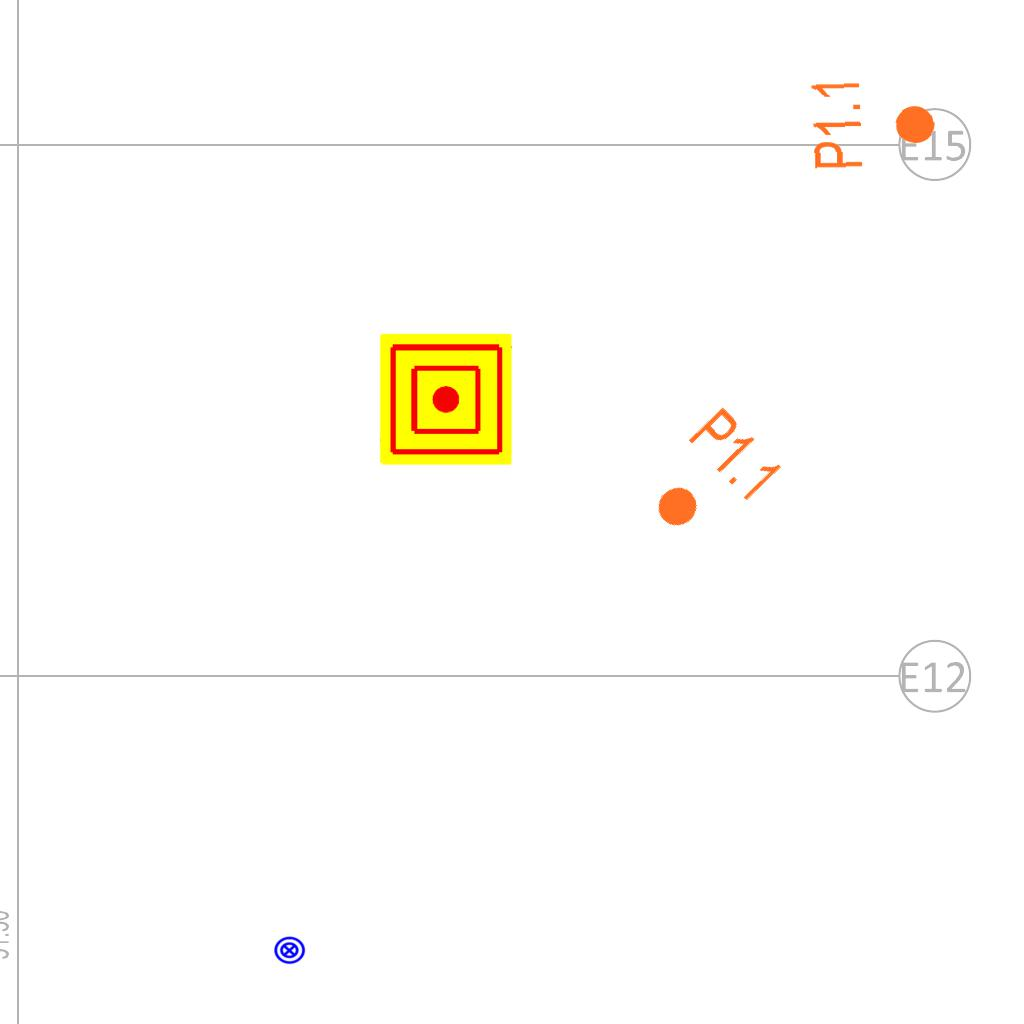Downlight_LED_Einbauleuchten_Flur: (631, 402, 788, 558), (807, 74, 940, 172)
NAM-Nichtautomatischer_Melder: (380, 333, 512, 465)
Taster_beleuchtet: (273, 934, 306, 967)
